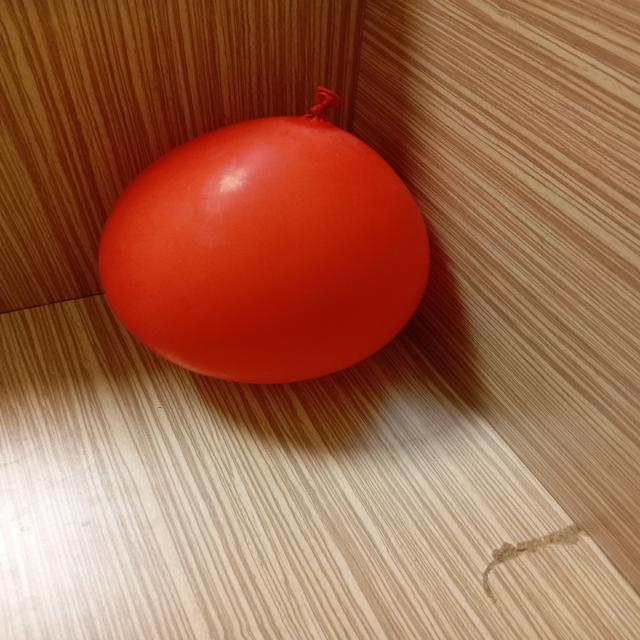balloon: (99, 87, 430, 383)
